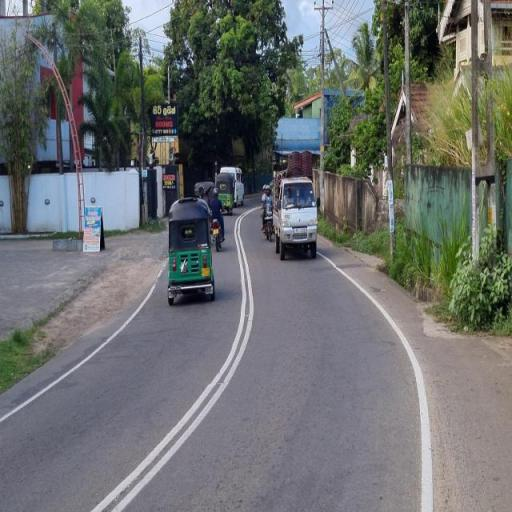double_white_line: (90, 205, 255, 512)
